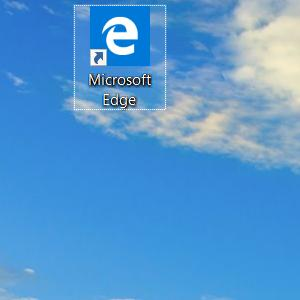edge: (89, 6, 151, 67)
